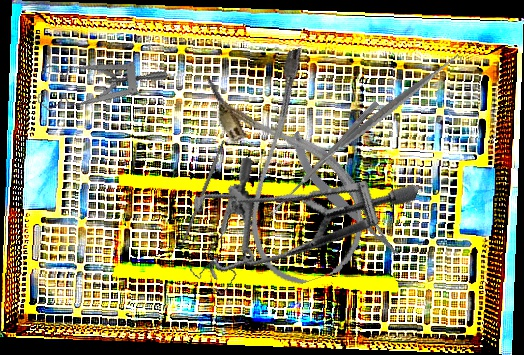Cannula: (201, 45, 378, 294)
Micro Scissor: (282, 120, 406, 273)
Scalpel Handle: (179, 139, 227, 248)
Spatula Surgical: (304, 28, 470, 194)
Speculum: (170, 113, 420, 336), (165, 156, 284, 302), (31, 35, 169, 141)
Surgical Spoon: (268, 99, 380, 218)
